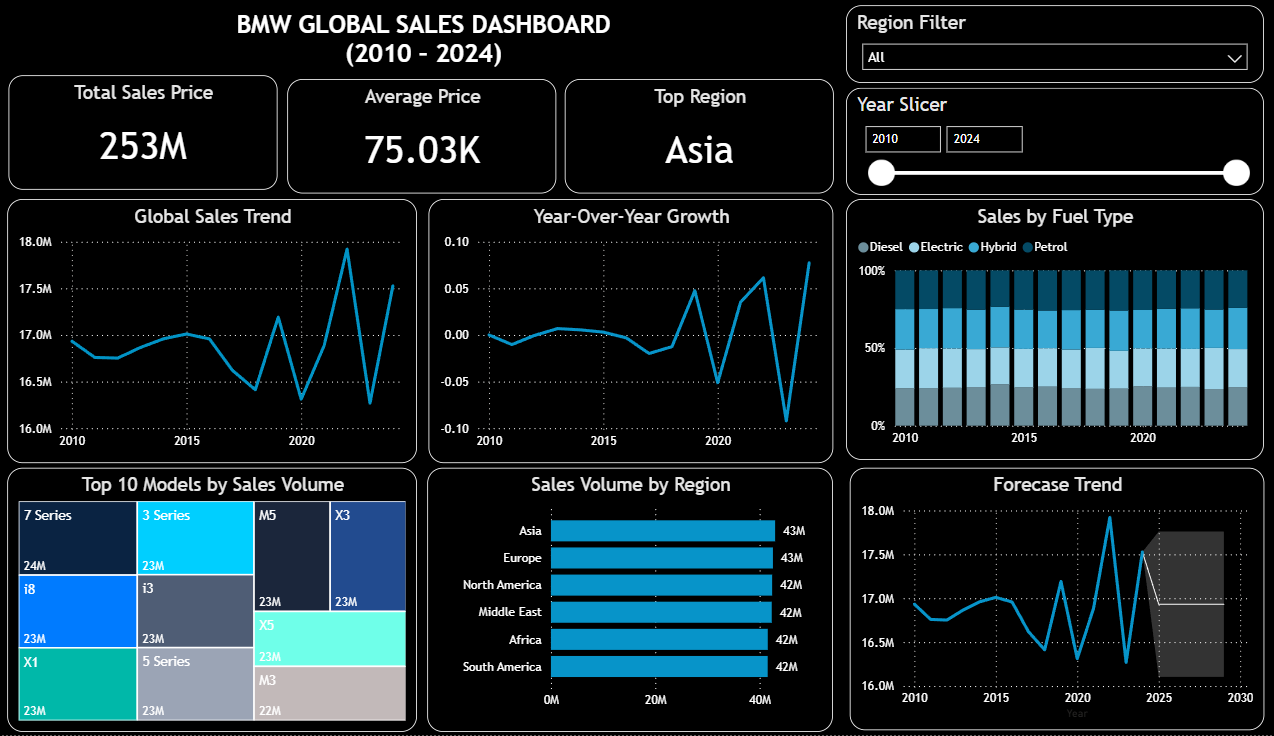

Layout of this report page (visuals, bound fields, positions):
{"tool":"powerbi","page":{"name":"Page 1","canvas":[1280,720],"ordinal":0},"visuals":[{"type":"lineChart","title":"Global Sales Trend","fields":{"Category":["BMW_cleaned_final.Year"],"Y":["Sum(BMW_cleaned_final.Sales_Volume)"]},"box":[25.7,195.7,401.1,258],"z":0},{"type":"barChart","title":"Sales Volume by Region","fields":{"Category":["BMW_cleaned_final.Region"],"Y":["Sum(BMW_cleaned_final.Sales_Volume)"]},"box":[437.1,458.6,397.1,258.6],"z":1000},{"type":"treemap","title":"Top 10 Models by Sales Volume","fields":{"Group":["BMW_cleaned_final.Model"],"Values":["Sum(BMW_cleaned_final.Sales_Volume)"]},"box":[25.7,458.6,401.1,258],"z":2000},{"type":"hundredPercentStackedColumnChart","title":"Sales by Fuel Type","fields":{"Category":["BMW_cleaned_final.Year"],"Y":["Sum(BMW_cleaned_final.Sales_Volume)"],"Series":["BMW_cleaned_final.Fuel_Type"]},"box":[846.2,195.7,408.4,255.6],"z":3000},{"type":"lineChart","title":"Year-Over-Year Growth","fields":{"Category":["BMW_cleaned_final.Year"],"Y":["BMW_cleaned_final.YoY Growth"]},"box":[437.8,195.7,396.2,258],"z":4000},{"type":"card","title":"Total Sales Price","fields":{"Values":["Sum(BMW_cleaned_final.Sales_Volume)"]},"box":[26.4,75,262.9,112.1],"z":5000},{"type":"card","title":"Average Price","fields":{"Values":["BMW_cleaned_final.Avg Price"]},"box":[299.3,77.9,263.6,112.1],"z":6000},{"type":"card","title":"Top Region","fields":{"Values":["BMW_cleaned_final.Top Region"]},"box":[570.7,78.6,263.6,112.1],"z":7000},{"type":"lineChart","title":"Forecase Trend","fields":{"Category":["BMW_cleaned_final.Year"],"Y":["Sum(BMW_cleaned_final.Sales_Volume)"]},"box":[850,458.6,405.7,257.1],"z":8000},{"type":"textbox","box":[21.4,5.7,821.4,84.3],"z":9000},{"type":"slicer","title":"Region Filter","fields":{"Values":["BMW_cleaned_final.Region"]},"box":[846.2,6.1,408.4,75.8],"z":10000},{"type":"slicer","title":"Year Slicer","fields":{"Values":["BMW_cleaned_final.Year"]},"box":[846.2,86.8,408.4,105.2],"z":11000}]}

Visuals, with their boxes in screenshot pixels (x1, y1, x2, y2), scaled from the page's 1280x720 canvas onto the 1274x736 screenshot:
"Global Sales Trend" lineChart: Rect(26, 200, 425, 464)
"Sales Volume by Region" barChart: Rect(435, 469, 830, 733)
"Top 10 Models by Sales Volume" treemap: Rect(26, 469, 425, 733)
"Sales by Fuel Type" hundredPercentStackedColumnChart: Rect(842, 200, 1249, 461)
"Year-Over-Year Growth" lineChart: Rect(436, 200, 830, 464)
"Total Sales Price" card: Rect(26, 77, 288, 191)
"Average Price" card: Rect(298, 80, 560, 194)
"Top Region" card: Rect(568, 80, 830, 195)
"Forecase Trend" lineChart: Rect(846, 469, 1250, 732)
textbox: Rect(21, 6, 839, 92)
"Region Filter" slicer: Rect(842, 6, 1249, 84)
"Year Slicer" slicer: Rect(842, 89, 1249, 196)
